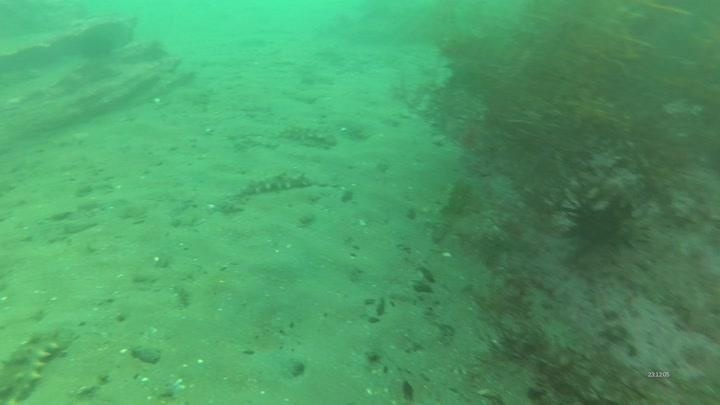echinus: (558, 183, 650, 260)
holothurian: (0, 324, 69, 404), (231, 166, 315, 201), (277, 119, 340, 150)
